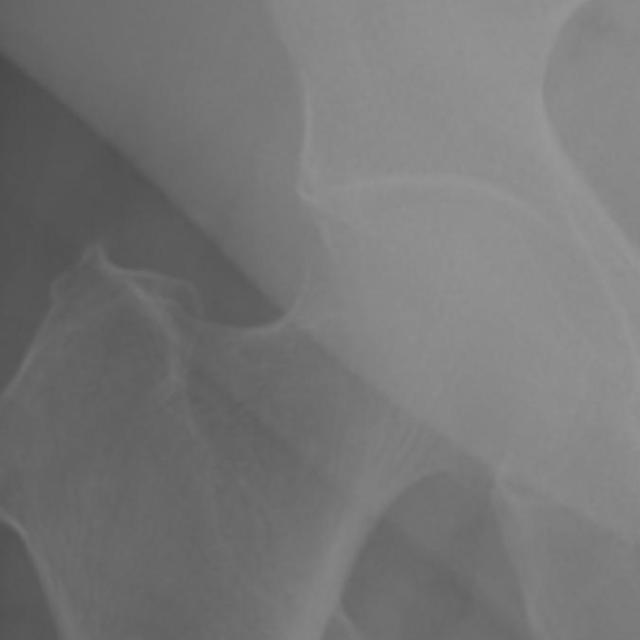Fitted_femural_head: (299, 202, 432, 299)
